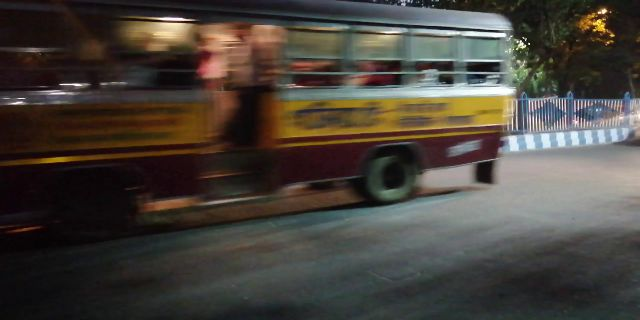Bus: (20, 7, 521, 205)
